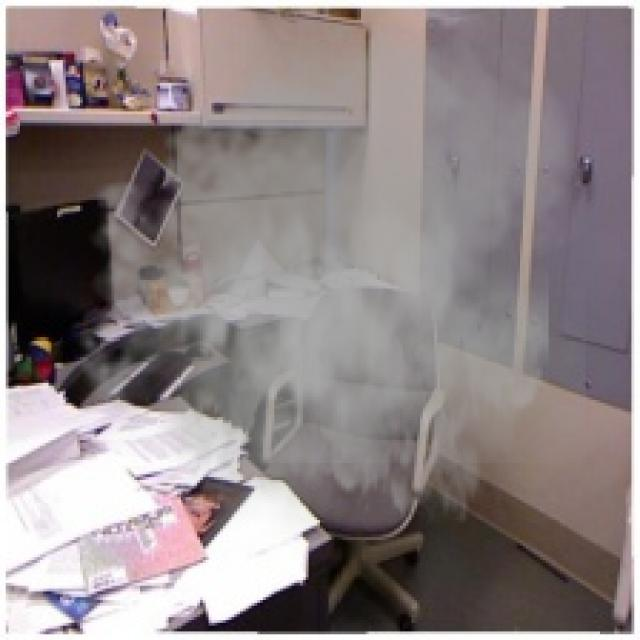smoke: (60, 3, 586, 560)
